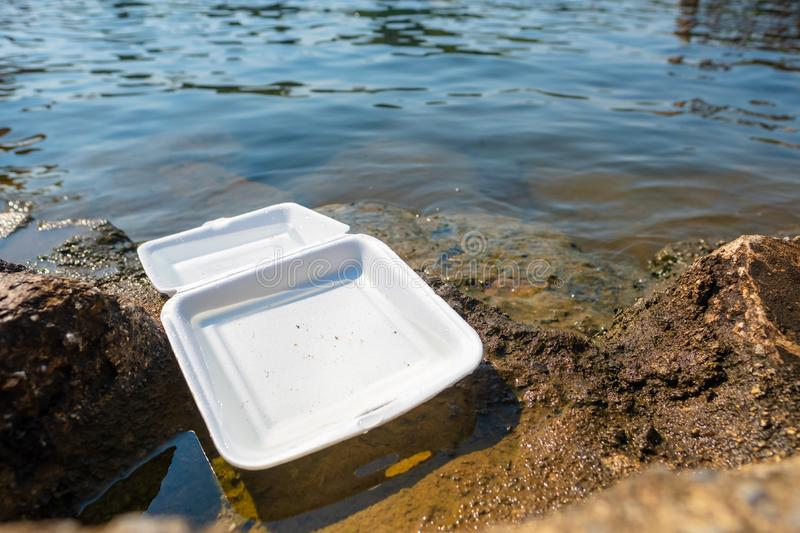Foam Box: (130, 194, 488, 476)
